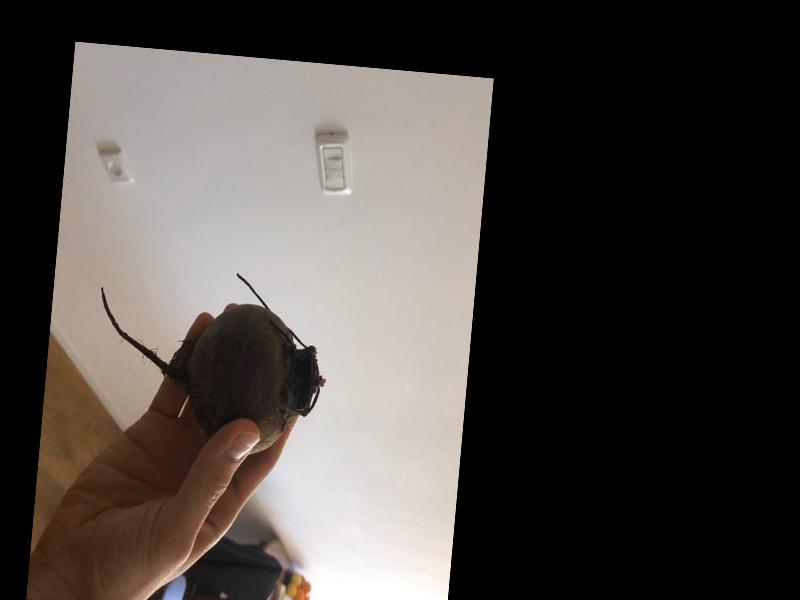Beet: (87, 259, 334, 461)
